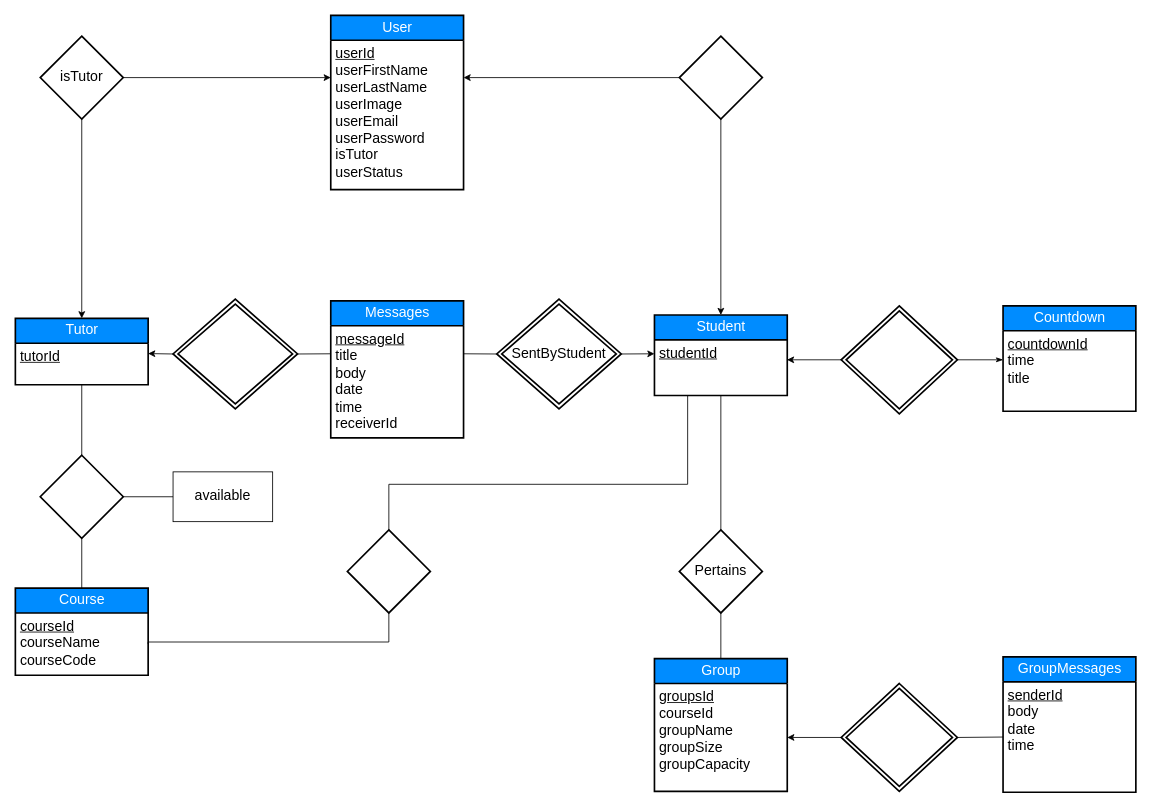
Some shapes in this 1150 by 808 pixel diagram are drawn without their labels. The box of each missing label's shape, as (x1, y1, x2, y2) in pixels:
hasCountdown: (840, 305, 958, 414)
hasMessages: (840, 682, 958, 792)
isStudent: (678, 35, 763, 120)
SentByTutor: (172, 298, 298, 409)
Takes: (346, 529, 431, 613)
Teaches: (39, 454, 124, 539)
